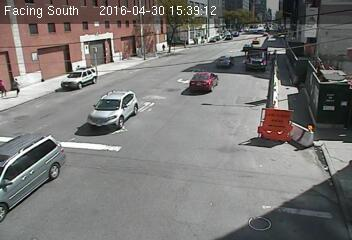neg: (314, 86, 336, 116), (106, 100, 123, 124), (272, 112, 289, 134), (198, 73, 210, 89), (221, 59, 231, 73)
pos: (10, 74, 24, 93), (161, 41, 168, 51)
